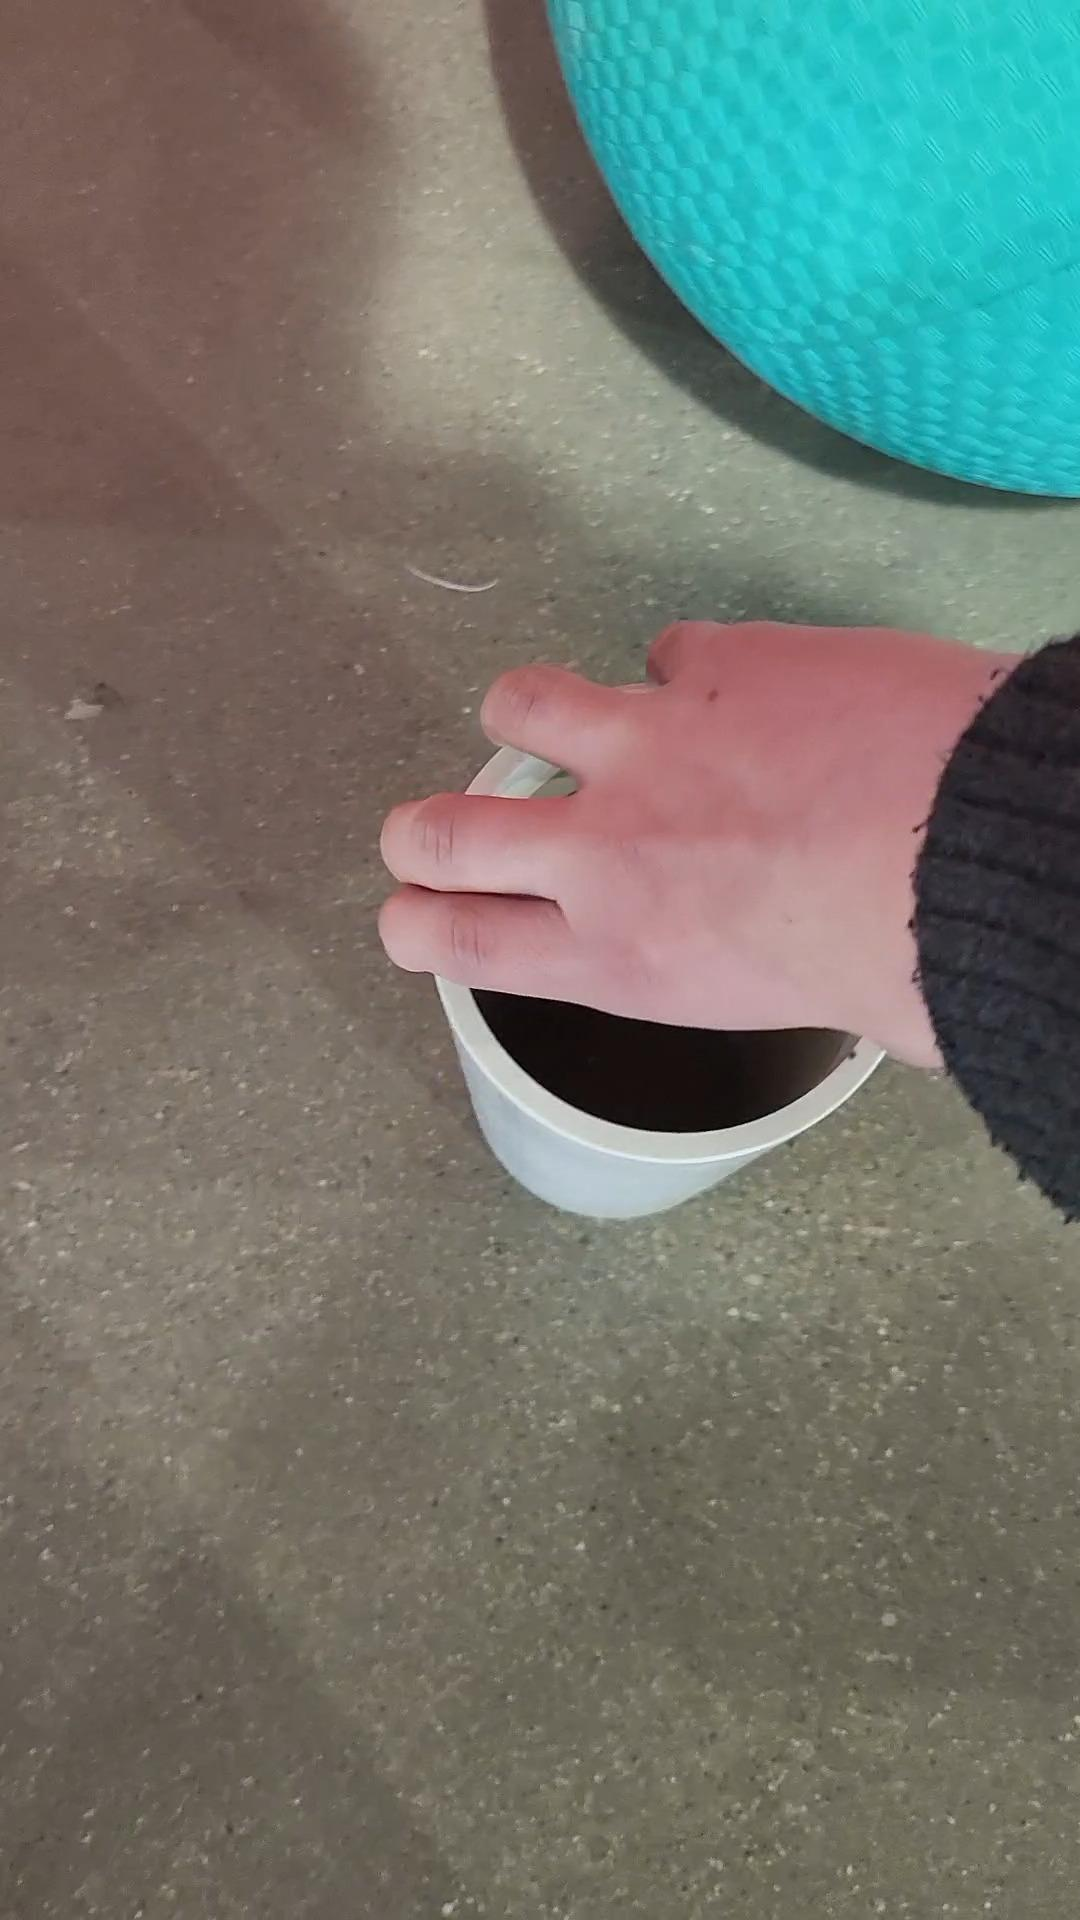algae: (491, 0, 1080, 513)
coral: (351, 676, 935, 1209)
